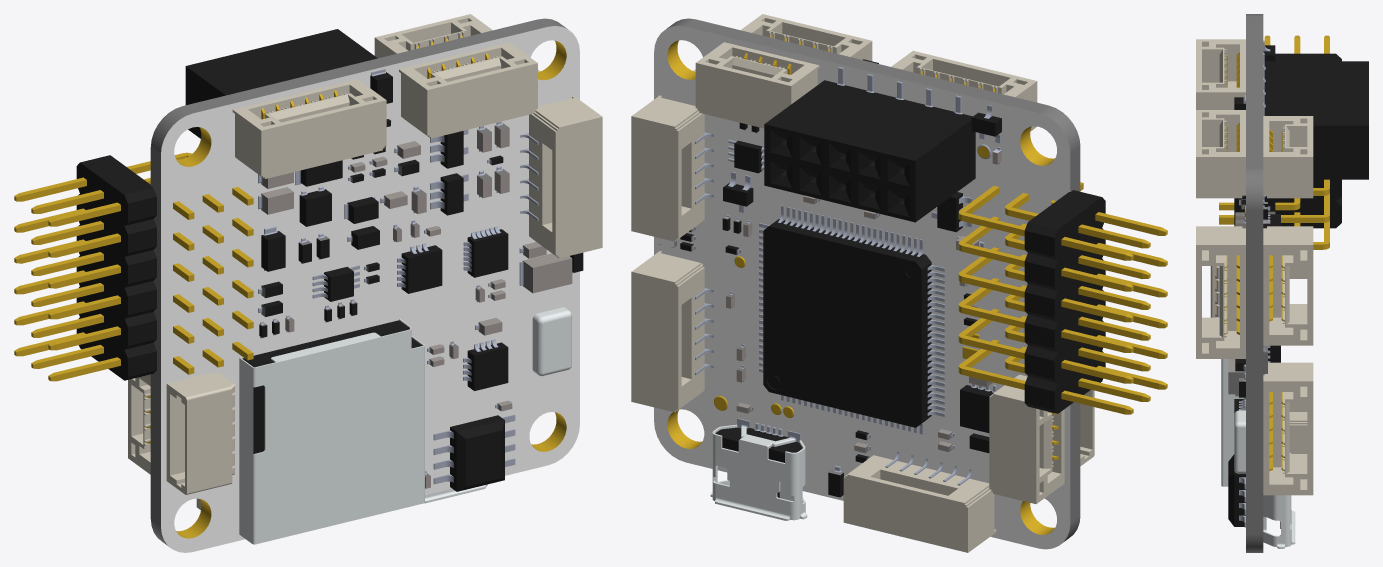
The model's file is coex_pix.fbx.
3 views of the same model, side by side, from view 1: azimuth 30°, elevation 25°; view 2: azimuth 150°, elevation 25°; view 3: azimuth 270°, elevation 25° (orthographic). The views are drawn at different scales.
Parts seen in each view (by area): view 1: pixracerv1.0AutopilotDetailed; view 2: pixracerv1.0AutopilotDetailed; view 3: pixracerv1.0AutopilotDetailed.
Boxes of the visible parts, <box> form: pixracerv1.0AutopilotDetailed: <box>14,14,602,552</box>; pixracerv1.0AutopilotDetailed: <box>631,14,1167,552</box>; pixracerv1.0AutopilotDetailed: <box>1196,14,1368,552</box>.
Bounding box in the file's own units: 445 × 373 × 148.
